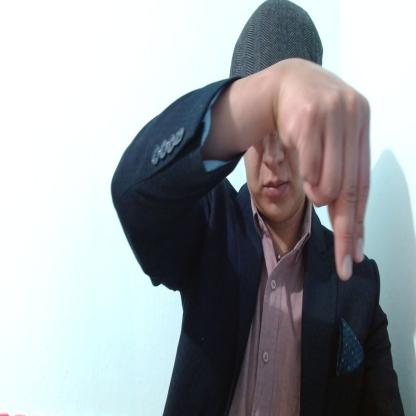N: (272, 55, 373, 281)
